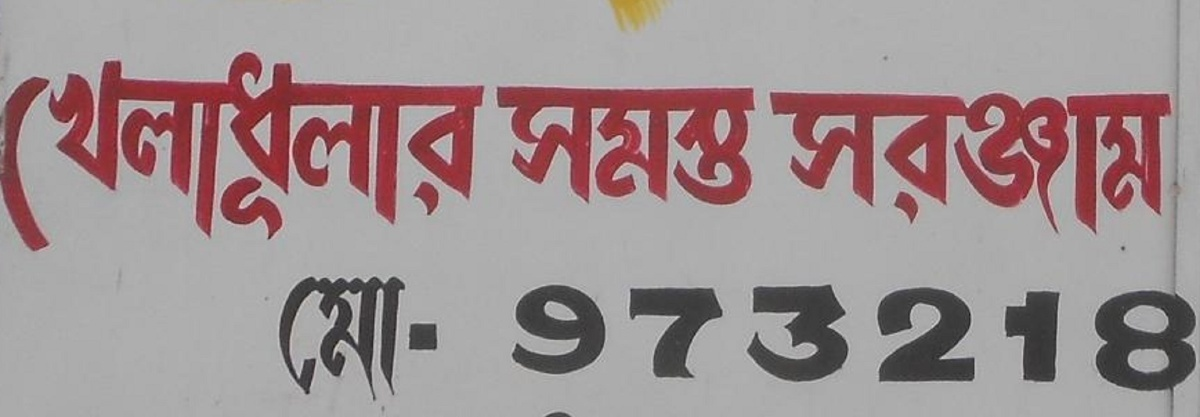text: (17, 53, 32, 254), (33, 53, 48, 254), (49, 53, 64, 254), (65, 53, 80, 254), (81, 53, 96, 254), (97, 53, 112, 254), (113, 53, 128, 254), (129, 53, 144, 254), (145, 53, 160, 254), (161, 53, 176, 254), (177, 53, 192, 254), (193, 53, 208, 254), (209, 53, 224, 254), (225, 53, 240, 254), (241, 53, 256, 254), (257, 53, 272, 254), (273, 53, 288, 254), (289, 53, 304, 254), (305, 53, 320, 254), (321, 53, 336, 254), (337, 53, 352, 254), (353, 53, 368, 254), (369, 53, 384, 254), (385, 53, 400, 254), (401, 53, 416, 254), (417, 53, 432, 254), (433, 53, 448, 254), (449, 53, 464, 254), (465, 53, 480, 254), (2, 53, 16, 254), (785, 89, 800, 237), (801, 89, 816, 237), (817, 89, 832, 237), (833, 89, 848, 237), (849, 89, 864, 237), (865, 89, 880, 237), (881, 89, 896, 237), (897, 89, 912, 237), (913, 89, 928, 237), (929, 89, 944, 237), (945, 89, 960, 237), (961, 89, 976, 237), (977, 89, 992, 237), (993, 89, 1008, 237), (1009, 89, 1024, 237), (1025, 89, 1040, 237), (1041, 89, 1056, 237), (1057, 89, 1072, 237), (1073, 89, 1088, 237), (1089, 89, 1104, 237), (1105, 89, 1120, 237), (1121, 89, 1136, 237), (1137, 89, 1152, 237), (1153, 89, 1168, 237), (289, 273, 304, 403), (305, 273, 320, 403), (321, 273, 336, 403), (337, 273, 352, 403), (353, 273, 368, 403), (369, 273, 384, 403), (385, 273, 400, 403), (401, 273, 416, 403), (417, 273, 432, 403), (771, 89, 784, 237), (497, 87, 512, 208), (513, 87, 528, 208), (529, 87, 544, 208), (545, 87, 560, 208), (561, 87, 576, 208), (577, 87, 592, 208), (593, 87, 608, 208), (609, 87, 624, 208), (625, 87, 640, 208), (641, 87, 656, 208), (657, 87, 672, 208), (673, 87, 688, 208), (689, 87, 704, 208), (705, 87, 720, 208), (721, 87, 736, 208), (737, 87, 752, 208), (513, 283, 528, 393), (529, 283, 544, 393), (545, 283, 560, 393), (561, 283, 576, 393), (577, 283, 592, 393), (593, 283, 608, 393), (609, 283, 624, 393), (625, 283, 640, 393), (641, 283, 656, 393), (657, 283, 672, 393), (673, 283, 688, 393), (689, 283, 704, 393), (705, 283, 720, 393), (721, 283, 736, 393), (737, 283, 752, 393), (753, 283, 768, 393), (769, 283, 784, 393), (785, 283, 800, 393), (801, 283, 816, 393), (817, 283, 832, 393), (833, 283, 848, 393), (849, 283, 864, 393), (865, 283, 880, 393), (881, 283, 896, 393), (897, 283, 912, 393), (913, 283, 928, 393), (929, 283, 944, 393), (945, 283, 960, 393), (961, 283, 976, 393), (977, 283, 992, 393), (993, 283, 1008, 393), (1009, 283, 1024, 393), (1025, 283, 1040, 393), (1041, 283, 1056, 393), (1057, 283, 1072, 393), (1073, 283, 1088, 393), (1089, 283, 1104, 393), (1105, 283, 1120, 393), (1121, 283, 1136, 393), (1137, 283, 1152, 393), (1153, 283, 1168, 393), (1169, 283, 1184, 393), (1185, 283, 1200, 393), (481, 53, 489, 254), (277, 273, 288, 403), (433, 273, 442, 403), (753, 87, 758, 208), (609, 2, 624, 41), (625, 2, 640, 41), (641, 2, 656, 41), (657, 2, 672, 41), (673, 2, 685, 41), (1169, 89, 1172, 237), (508, 283, 512, 393), (602, 2, 608, 41), (545, 406, 560, 416), (561, 406, 574, 416), (543, 406, 544, 416)
